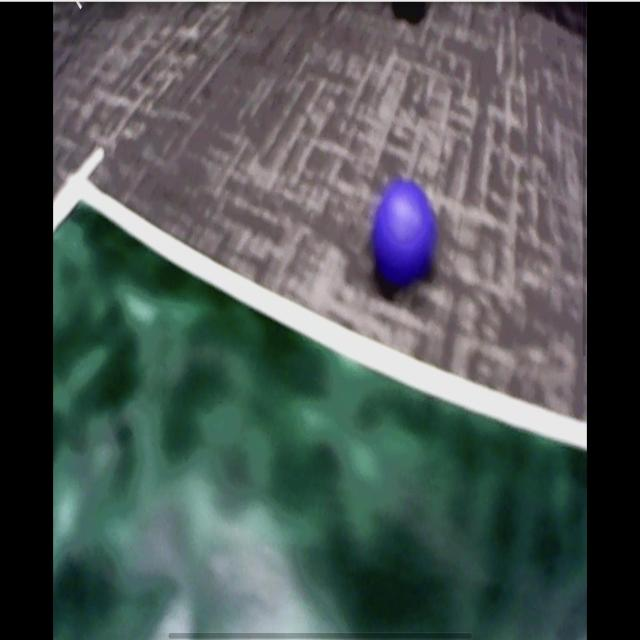ball: (375, 183, 437, 292)
